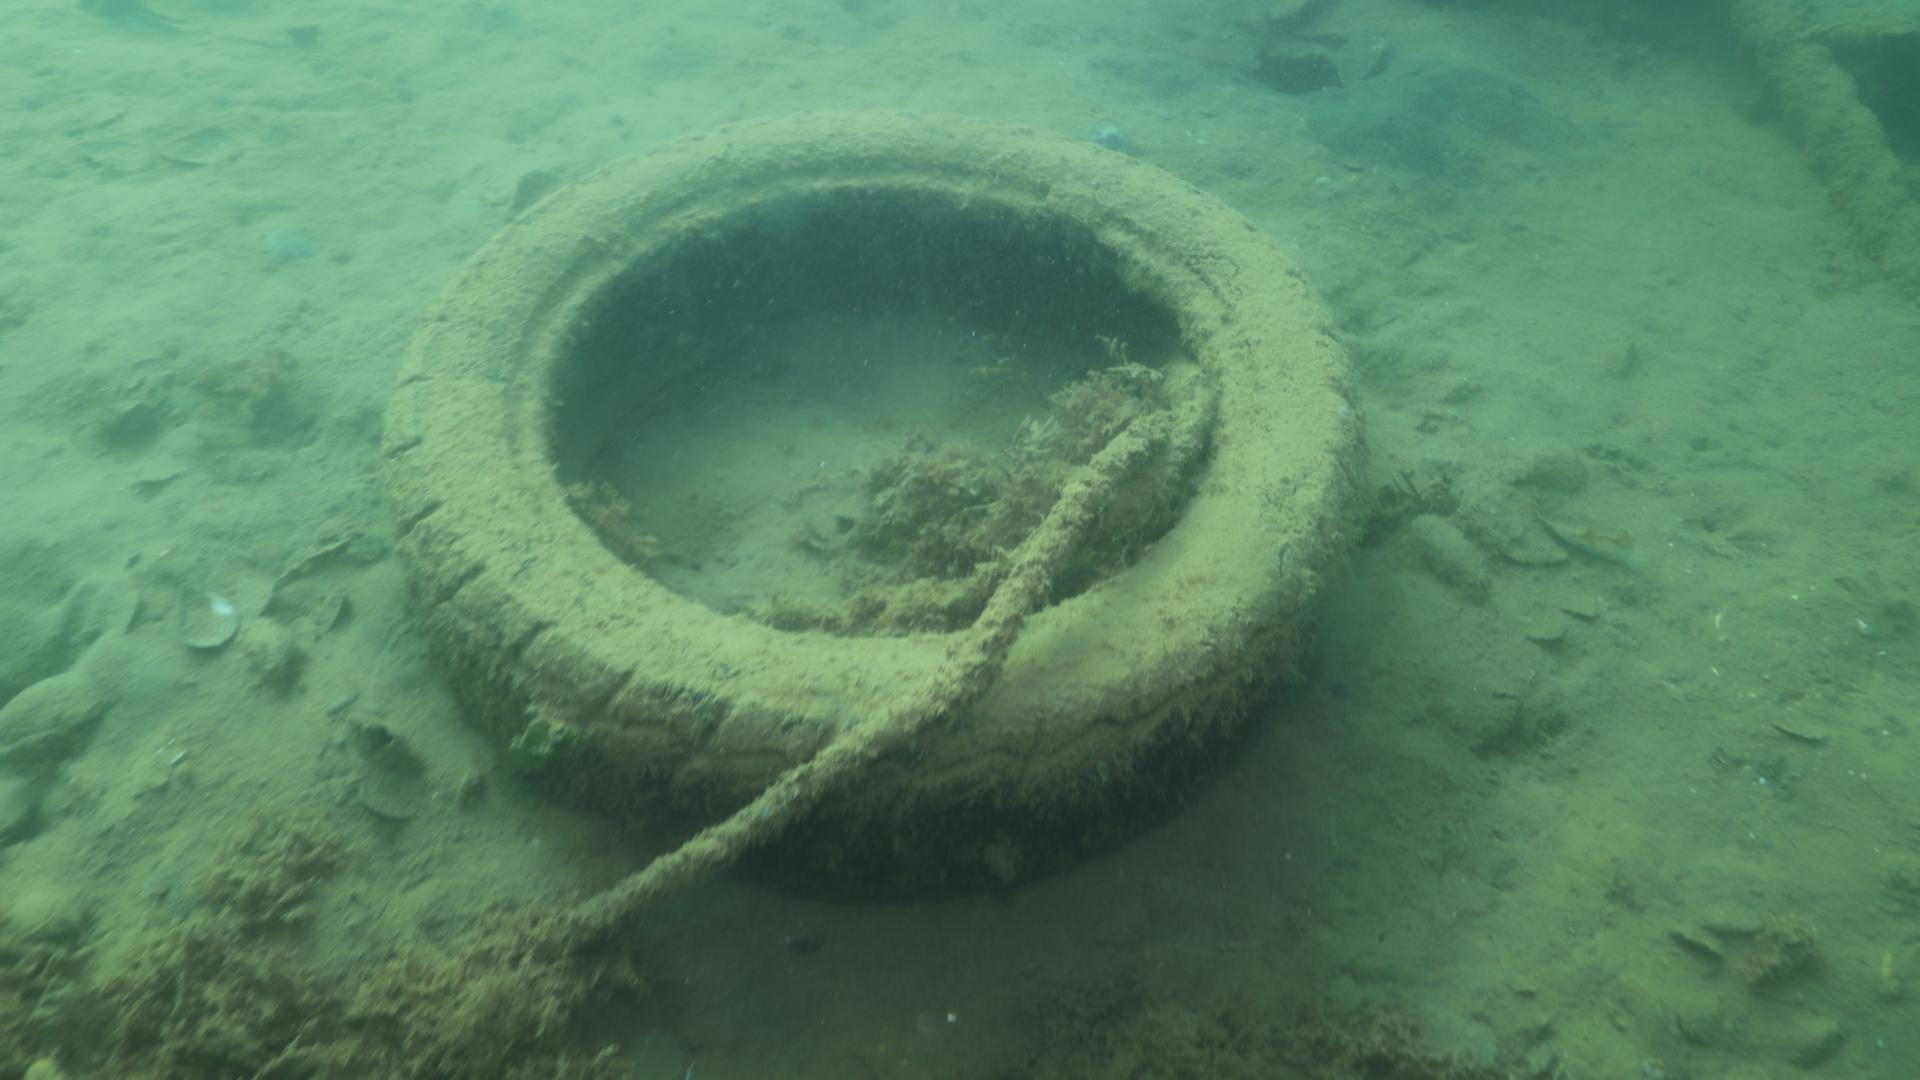bundle of ropes: (572, 355, 1218, 918)
tire: (378, 104, 1364, 905)
